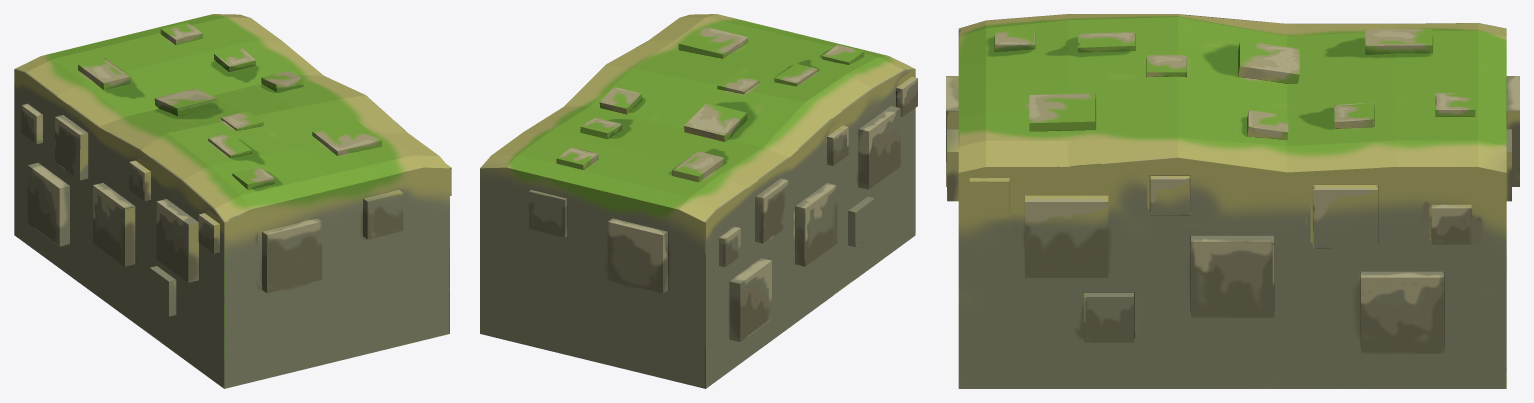
File: Land.fbx
3 views of the same model, side by side, from view 1: azimuth 30°, elevation 25°; view 2: azimuth 150°, elevation 25°; view 3: azimuth 270°, elevation 25° (orthographic). The views are drawn at different scales.
Visible parts, largest first — view 1: Cube.003; view 2: Cube.003; view 3: Cube.003.
Boxes of the visible parts, x1,y1,x2,y2 form: Cube.003: [14, 14, 451, 388]; Cube.003: [480, 14, 917, 388]; Cube.003: [946, 14, 1519, 388].
Size of the model in its own units: 368 by 269 by 569.
Materials: 1 (1 with a texture image).
